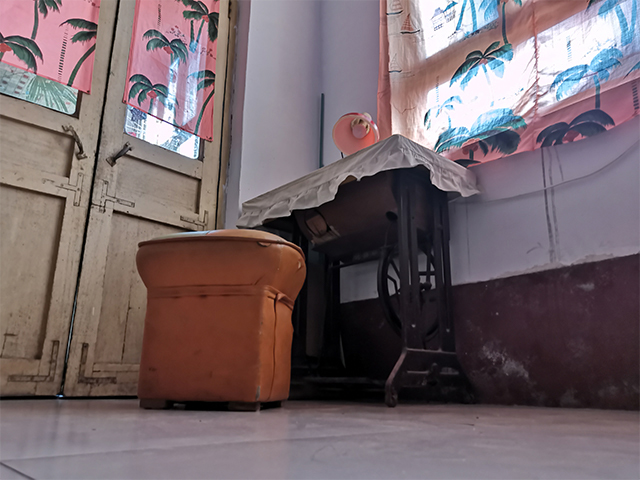stool: (134, 227, 309, 413)
